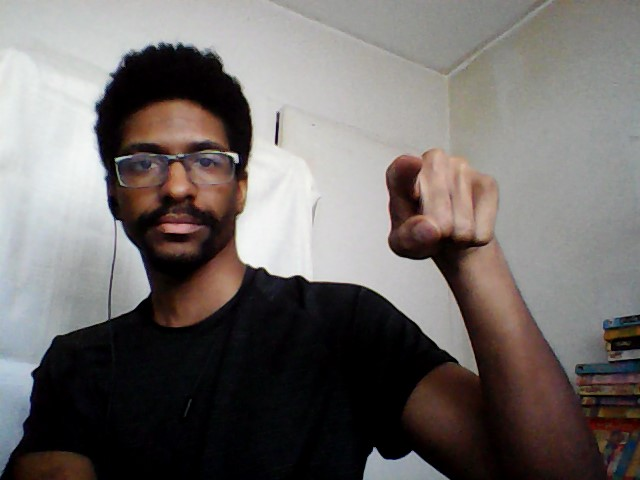z: (379, 145, 506, 262)
